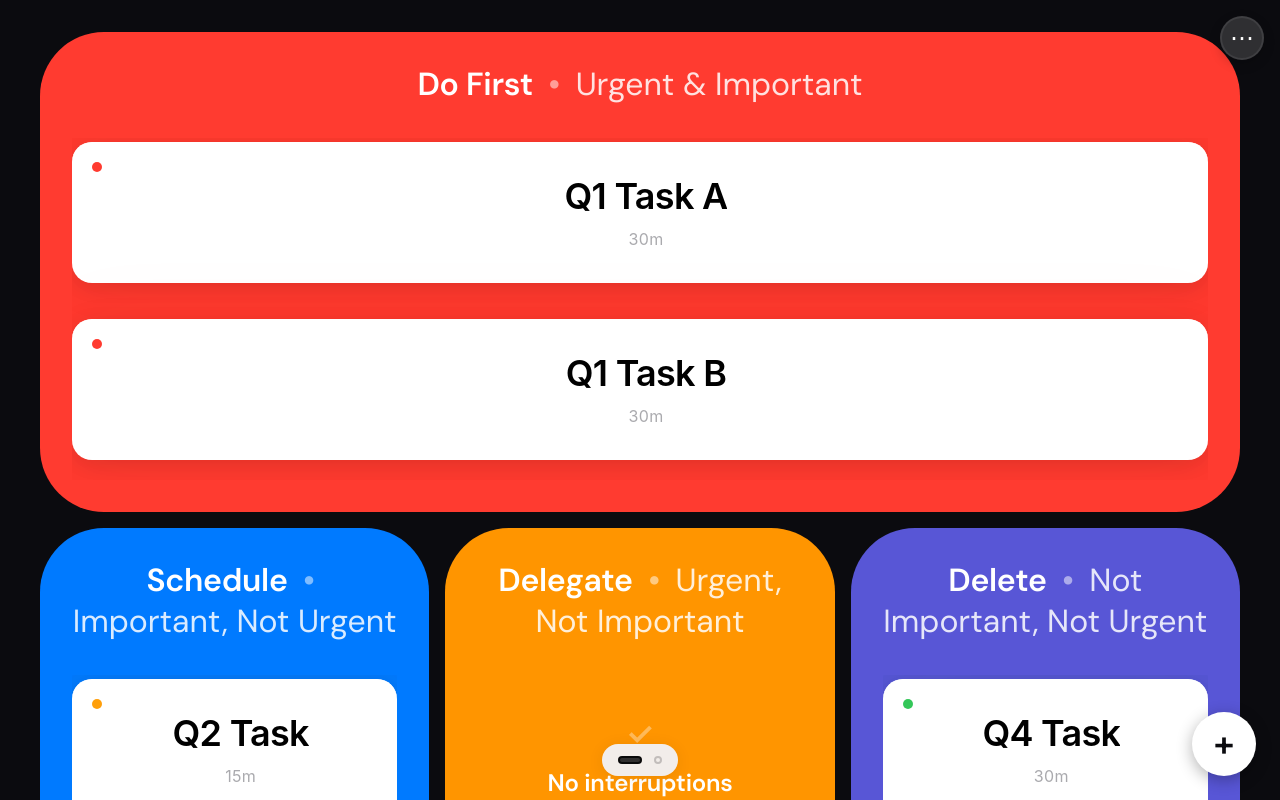
Right Now View › sorts tasks correctly: estimate first, then quadrant, then tie-breaker
The width and height of the screenshot is (1280, 800).
Click the button with test id "page-dot-rightNow": click(658, 760) [654,756,662,764]
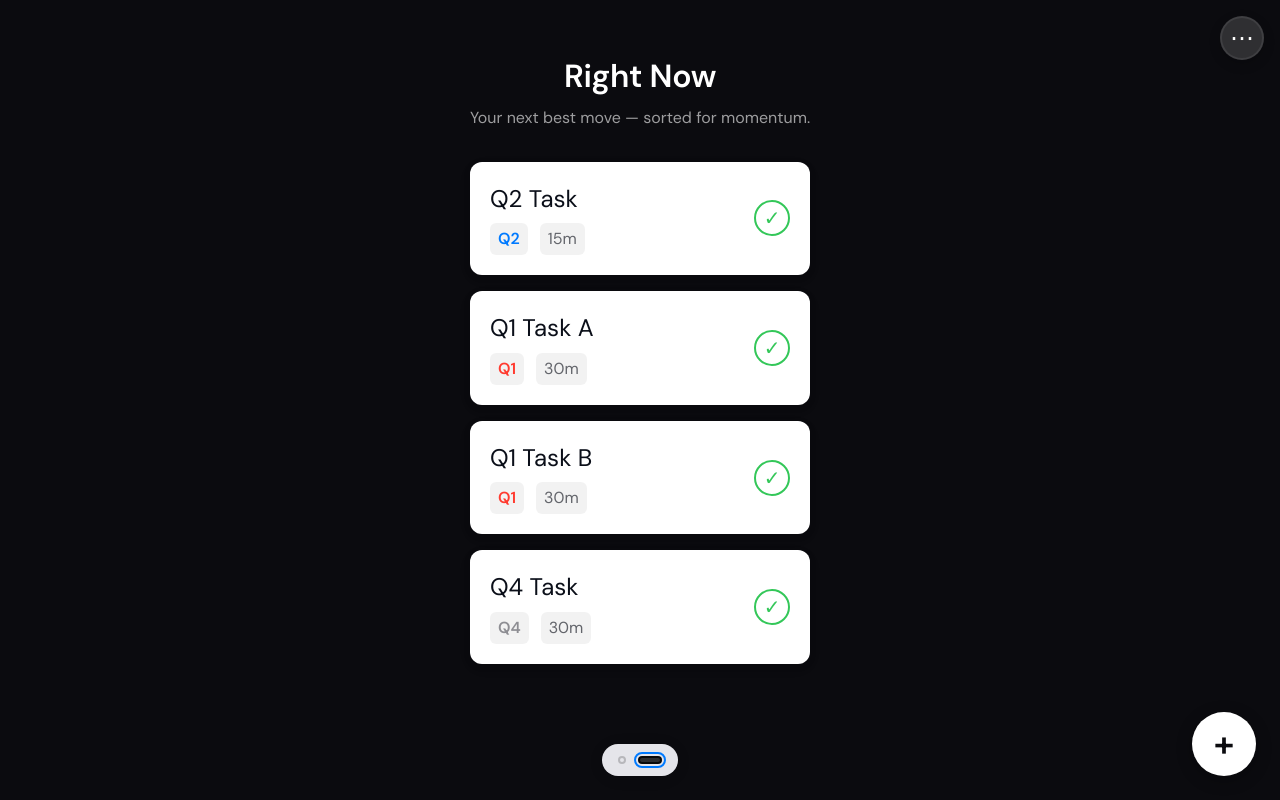
Expected: the element with test id "right-now-view" is shown, [446,32,834,688]
Expected: the element with test id "^right-now-task-" shows "Q2 Task", [490,183,578,214]
Expected: the element with test id "^right-now-task-" shows "Q1 Task A", [490,312,594,343]
